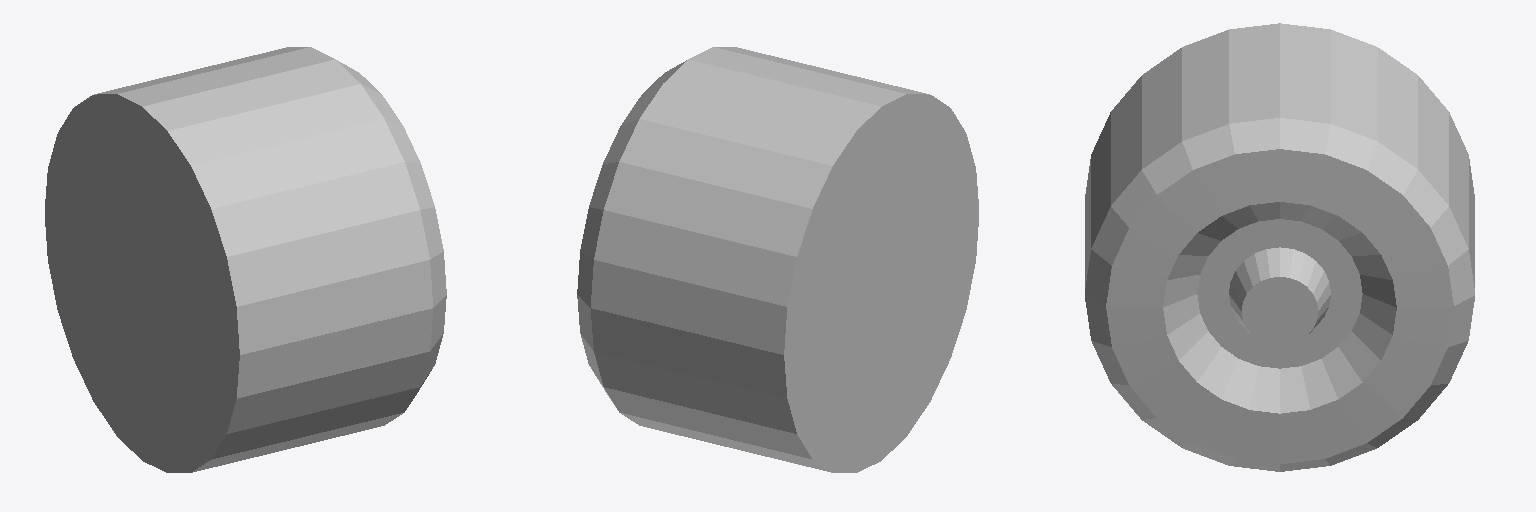
File: wheelWide.obj
3 views of the same model, side by side, from view 1: azimuth 30°, elevation 25°; view 2: azimuth 150°, elevation 25°; view 3: azimuth 270°, elevation 25° (orthographic).
Visible parts, largest first — view 1: wheelWide; view 2: wheelWide; view 3: wheelWide.
Boxes of the visible parts, x1=… form: wheelWide: x1=45, y1=47, x2=446, y2=472; wheelWide: x1=577, y1=47, x2=978, y2=472; wheelWide: x1=1085, y1=23, x2=1474, y2=471.
Size of the model in its own units: 3.01 by 4.48 by 4.48.